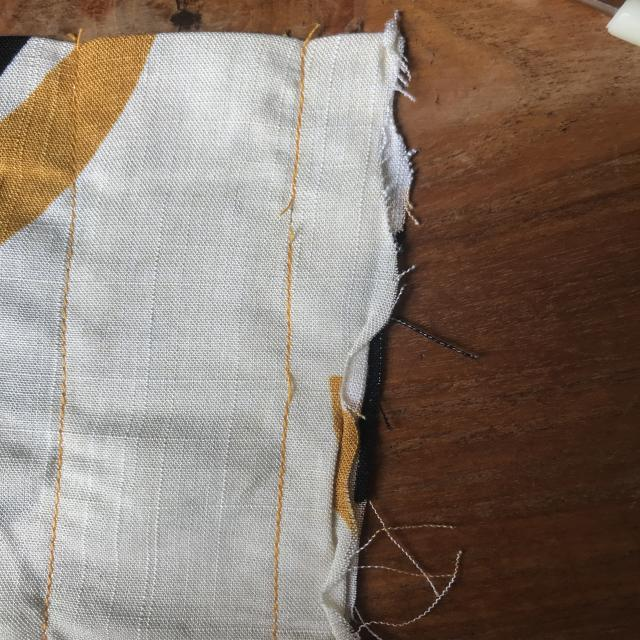broken: (253, 173, 321, 254)
skip: (248, 348, 312, 420)
